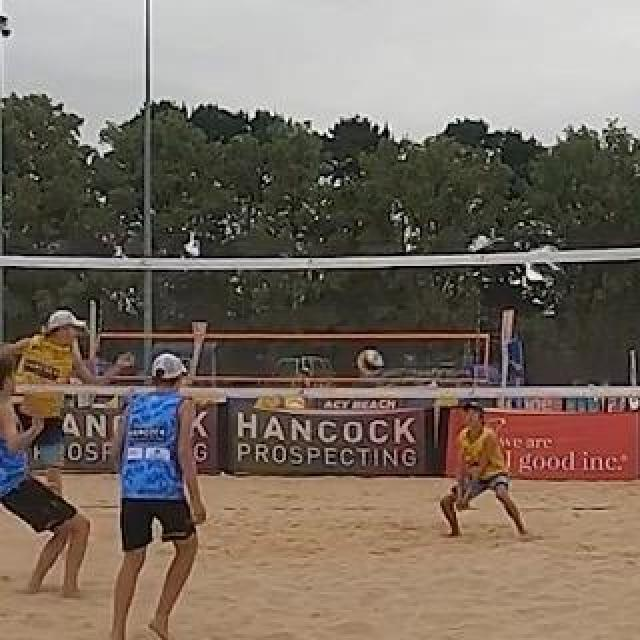volleyball: (356, 348, 382, 374)
